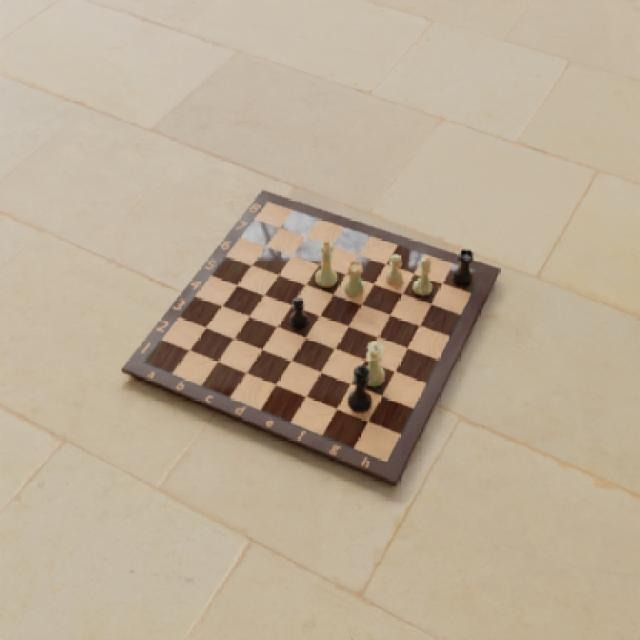black-king: (348, 362, 371, 415)
black-pawn: (288, 295, 310, 332)
black-rook: (451, 248, 474, 288)
white-bishop: (412, 254, 434, 298)
white-king: (313, 239, 339, 289)
white-pawn: (384, 251, 404, 288)
white-queen: (365, 339, 386, 391)
white-rook: (344, 258, 364, 298)
